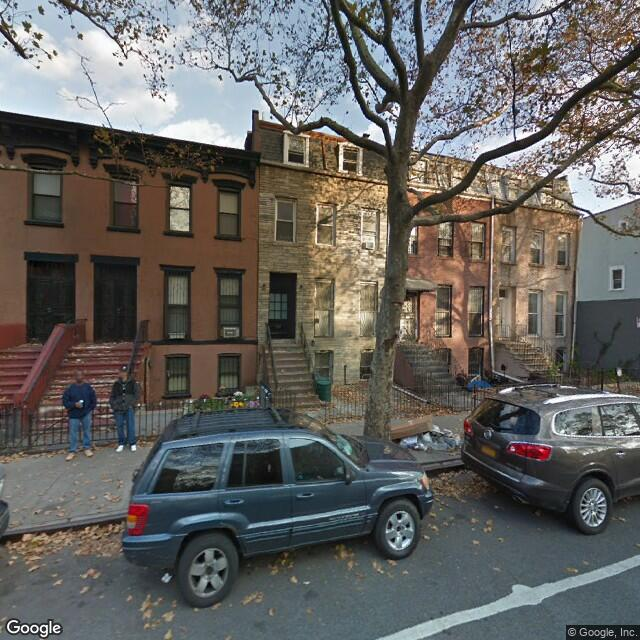litter: (396, 437, 472, 451), (387, 419, 430, 442), (425, 414, 453, 444), (158, 570, 173, 584)
